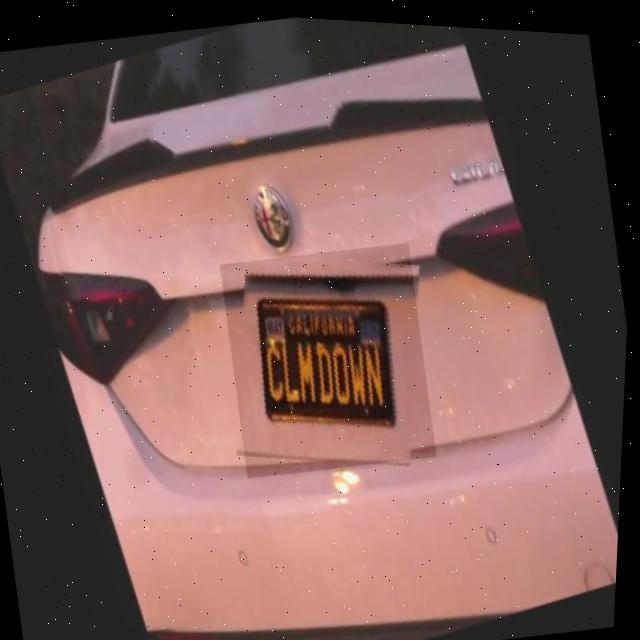LicensePlate: (215, 229, 447, 483)
